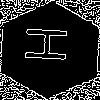H: (25, 25, 78, 64)
